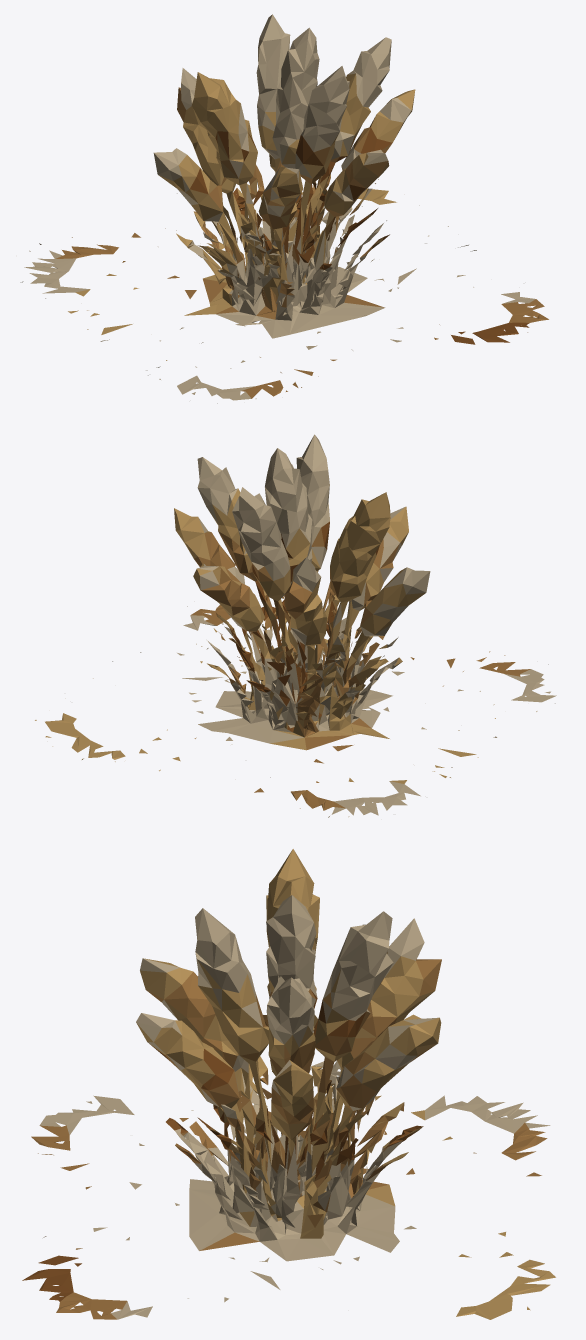
Rendered from wheat.glb.
3 views of the same model, one above another, from view 1: azimuth 30°, elevation 25°; view 2: azimuth 150°, elevation 25°; view 3: azimuth 270°, elevation 25° (orthographic). The views are drawn at different scales.
Parts seen in each view (by area): view 1: geometry_0; view 2: geometry_0; view 3: geometry_0.
Part boxes in pixels (x1=…): geometry_0: x1=20, y1=14, x2=548, y2=403; geometry_0: x1=35, y1=434, x2=556, y2=817; geometry_0: x1=22, y1=849, x2=555, y2=1319.
Bounding box in the file's own units: 1.98 × 1.29 × 1.96.
